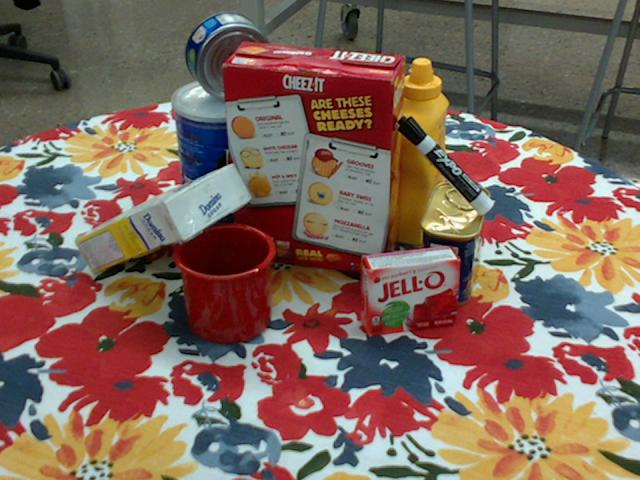cracker_box: (222, 43, 405, 277)
gelatin_box: (361, 246, 461, 337)
large_marker: (398, 117, 494, 216)
master_chef_can: (173, 78, 271, 235)
mug: (174, 221, 278, 343)
mustard_bottle: (389, 60, 450, 247)
potted_meat_can: (420, 183, 491, 307)
sugar_box: (72, 164, 252, 273)
tomato_soup_can: (326, 106, 386, 211)
tuna_fish_can: (185, 13, 272, 100)
